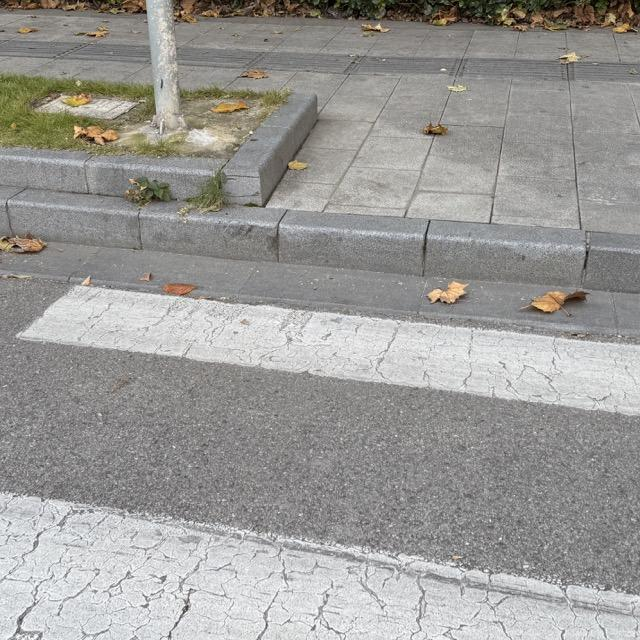curb: (0, 189, 639, 288), (0, 94, 317, 206)
